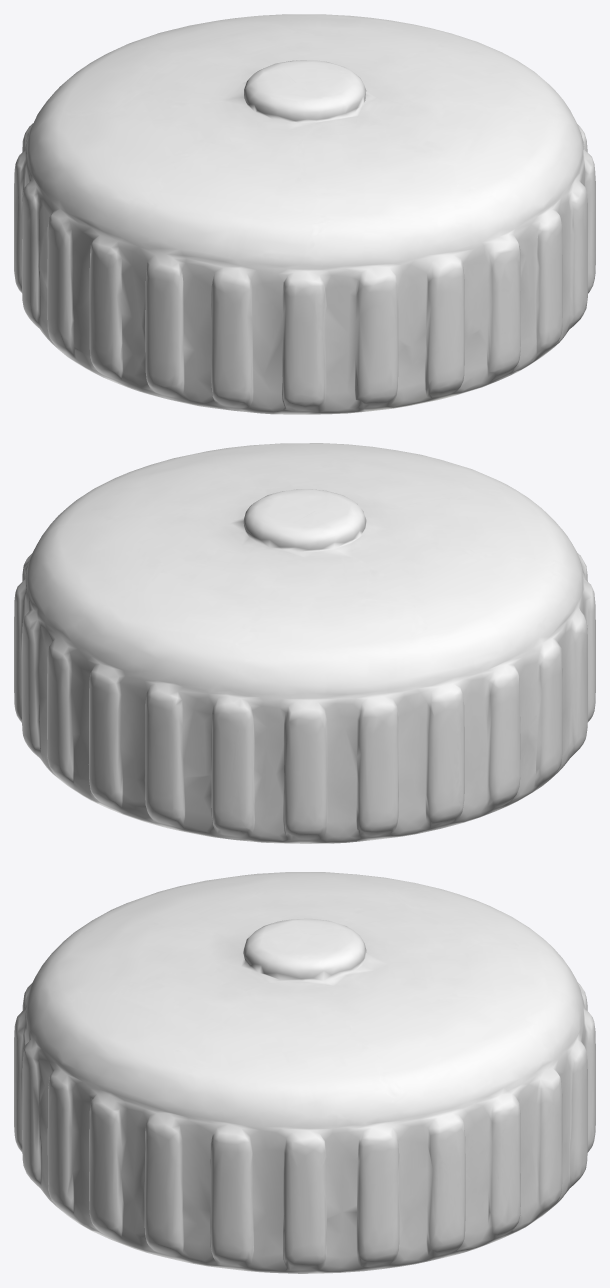
Rendered from lid.glb.
3 renders of one model, top to bottom at view 1: azimuth 30°, elevation 25°; view 2: azimuth 150°, elevation 25°; view 3: azimuth 270°, elevation 25°, orthographic.
Parts seen in each view (by area): view 1: tripo_node_c5d8981f-2377-48f9-8943-92a35553f336; view 2: tripo_node_c5d8981f-2377-48f9-8943-92a35553f336; view 3: tripo_node_c5d8981f-2377-48f9-8943-92a35553f336.
Boxes of the visible parts, x1,y1,x2,y2 form: tripo_node_c5d8981f-2377-48f9-8943-92a35553f336: (14,14,595,414); tripo_node_c5d8981f-2377-48f9-8943-92a35553f336: (14,443,595,843); tripo_node_c5d8981f-2377-48f9-8943-92a35553f336: (14,872,595,1273).
Bounding box in the file's own units: 0.9799 × 0.4074 × 0.9795.
Materials: 1 (1 with a texture image).
